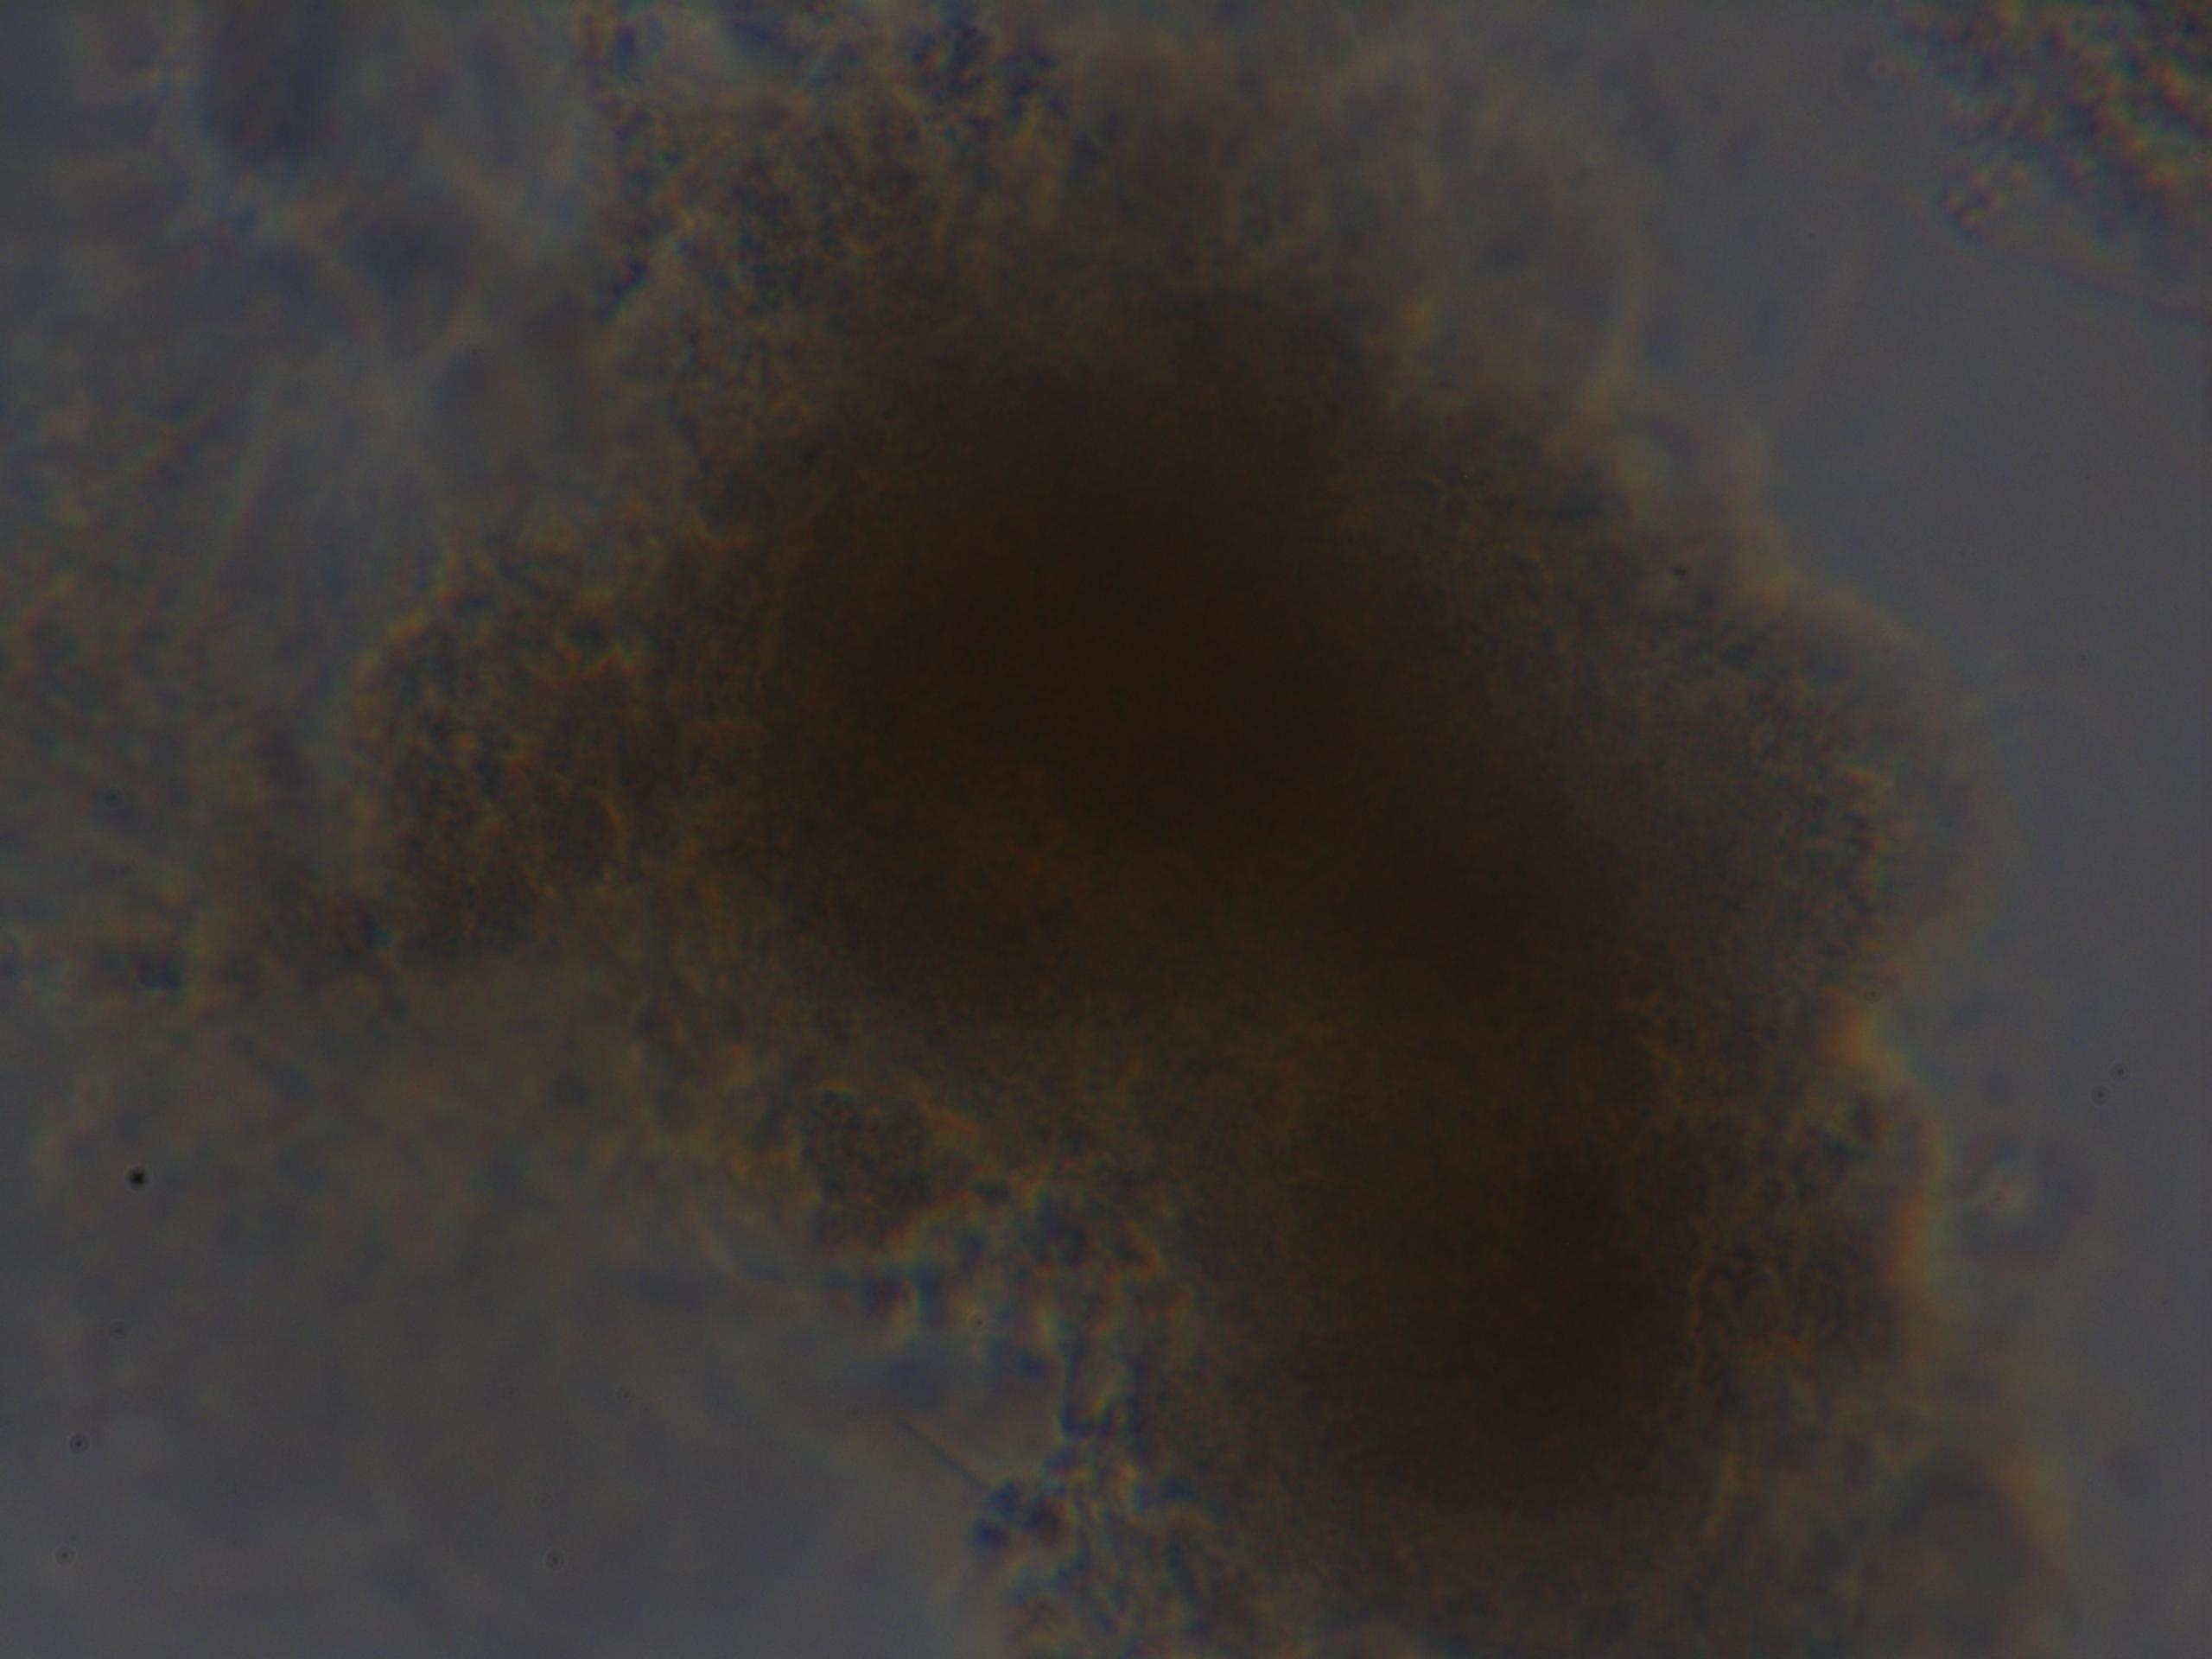spherical_floc: (535, 160, 1946, 1659)
